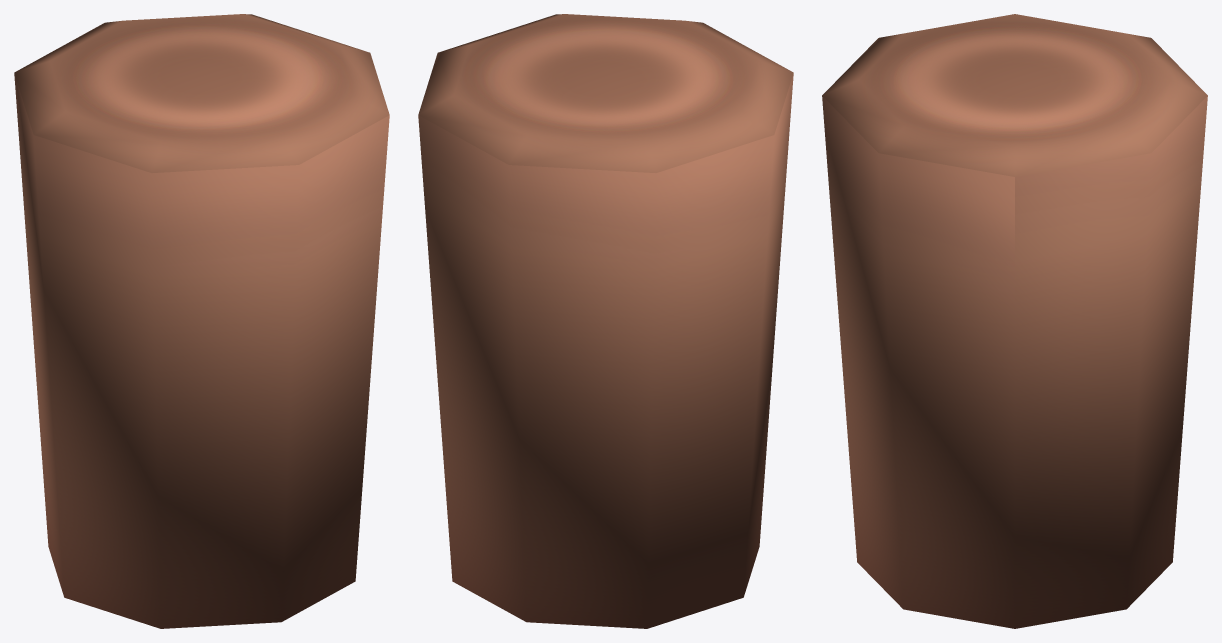
The model's file is Pole.fbx.
The picture shows the model from 3 angles, left to right: view 1: azimuth 30°, elevation 25°; view 2: azimuth 150°, elevation 25°; view 3: azimuth 270°, elevation 25°; orthographic projection.
Parts seen in each view (by area): view 1: Cylinder; view 2: Cylinder; view 3: Cylinder.
Boxes of the visible parts, x1=… form: Cylinder: x1=14, y1=14, x2=389, y2=628; Cylinder: x1=418, y1=14, x2=793, y2=628; Cylinder: x1=822, y1=14, x2=1207, y2=628.
Size of the model in its own units: 150 by 207 by 150.
